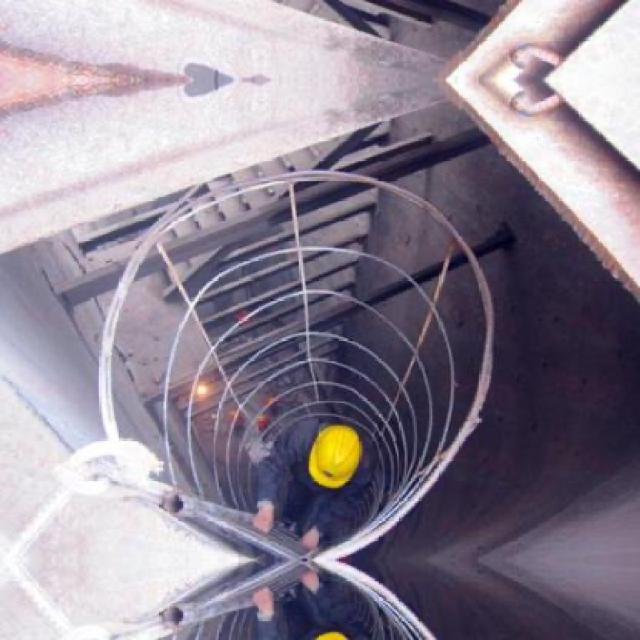con casco: (292, 389, 368, 504)
